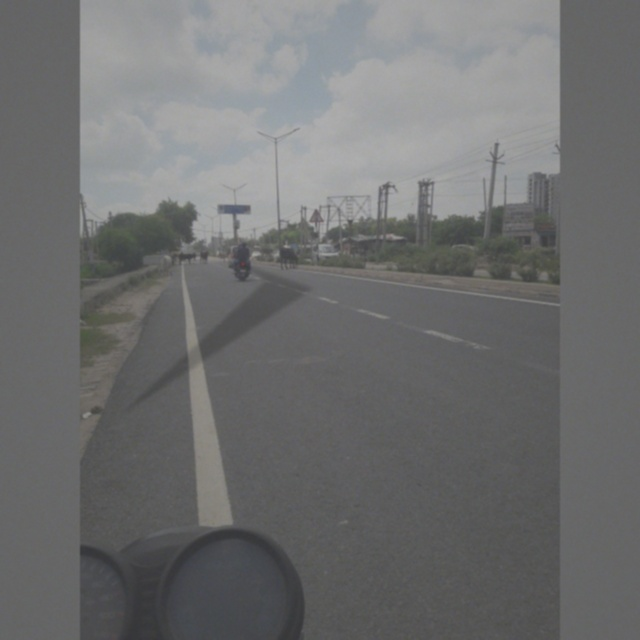Gap_in_Median: (307, 207, 327, 226)
